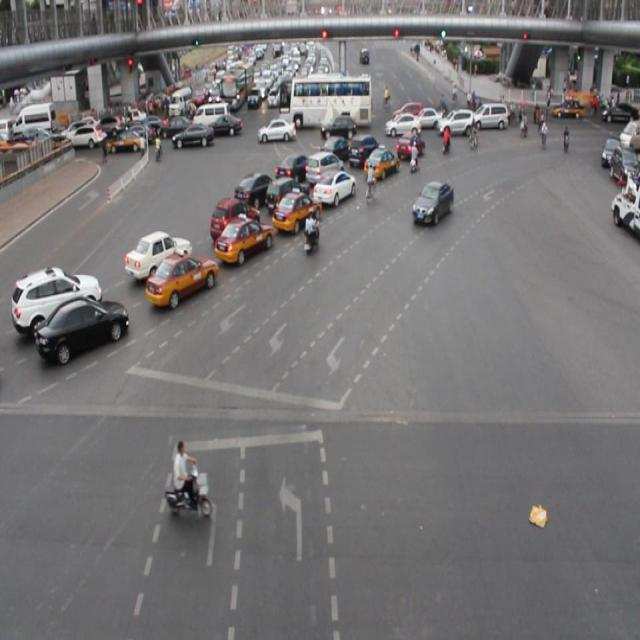car: (12, 266, 102, 334), (38, 296, 128, 348), (145, 254, 218, 298), (124, 231, 191, 275), (215, 217, 272, 259), (210, 196, 260, 241), (273, 193, 319, 234), (411, 180, 452, 223), (311, 167, 355, 205), (267, 174, 308, 214), (305, 150, 344, 188), (234, 173, 276, 204), (363, 144, 398, 180), (276, 152, 313, 182), (348, 131, 379, 166), (320, 136, 352, 163), (394, 133, 422, 162)
